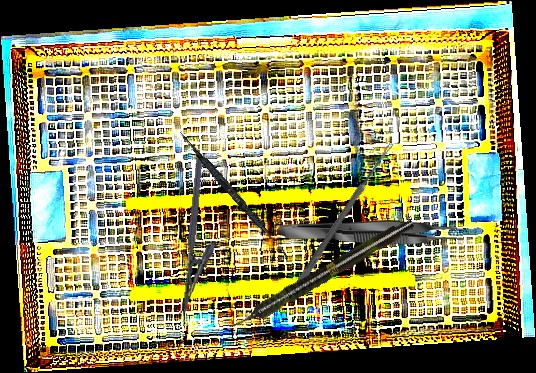Handpiece: (225, 214, 417, 337)
Needle Holder: (179, 155, 225, 316)
Spatula Surgical: (175, 130, 294, 261)
Surgical Spoon: (296, 139, 395, 287)
Tissue Forceps: (277, 217, 465, 247)
